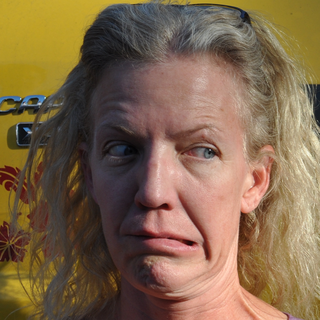eye: (172, 135, 228, 165), (96, 136, 143, 165)
